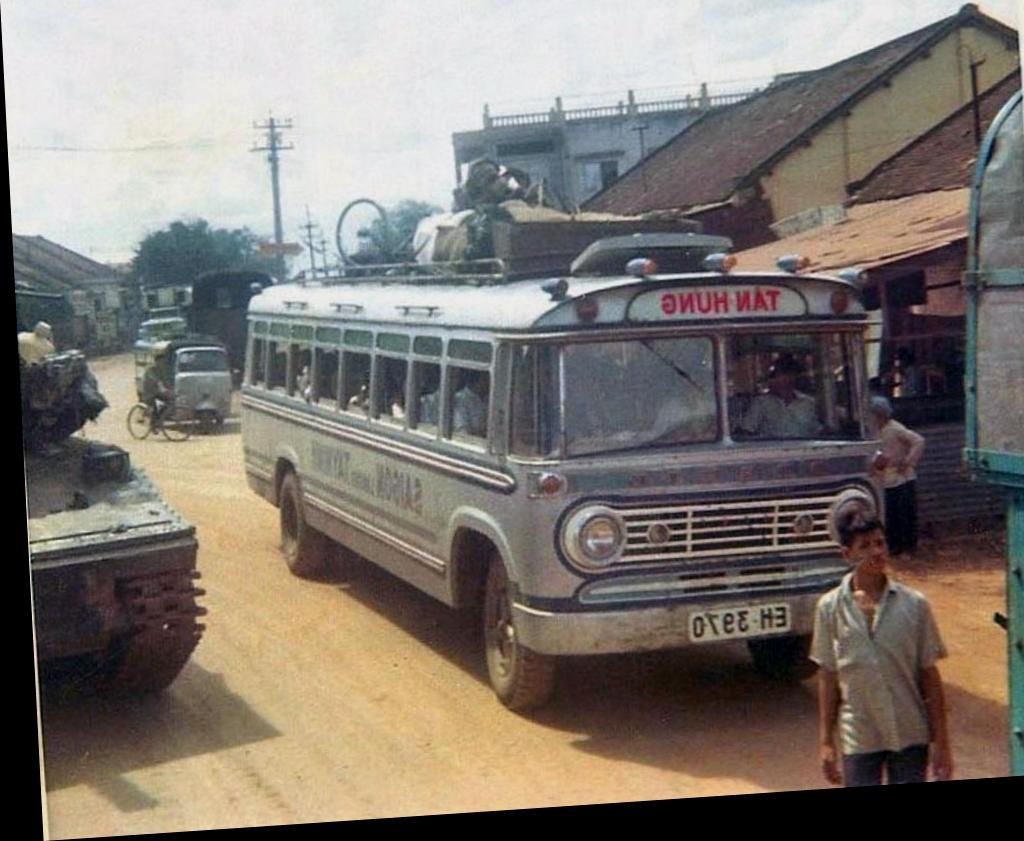License_Plate: (690, 602, 796, 646)
